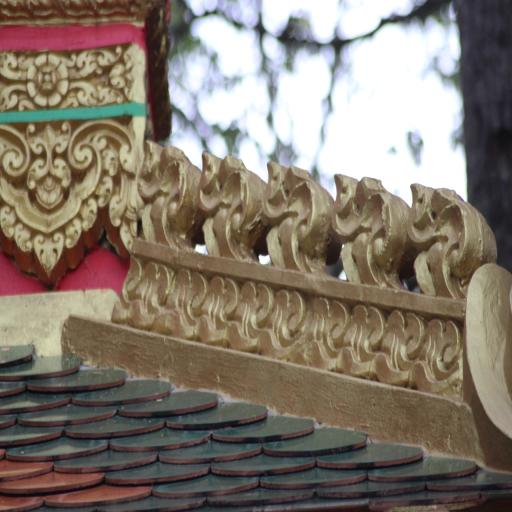hoa: (30, 47, 66, 115)
la: (0, 124, 132, 288), (408, 176, 498, 305), (335, 162, 412, 293), (260, 154, 341, 271), (196, 141, 269, 262), (140, 136, 200, 248), (119, 252, 169, 334), (419, 320, 463, 402), (67, 44, 128, 102), (383, 301, 419, 388), (308, 293, 346, 372), (270, 280, 304, 362), (236, 276, 270, 356), (170, 264, 203, 346), (349, 301, 382, 379), (205, 269, 234, 347), (0, 51, 33, 113)
